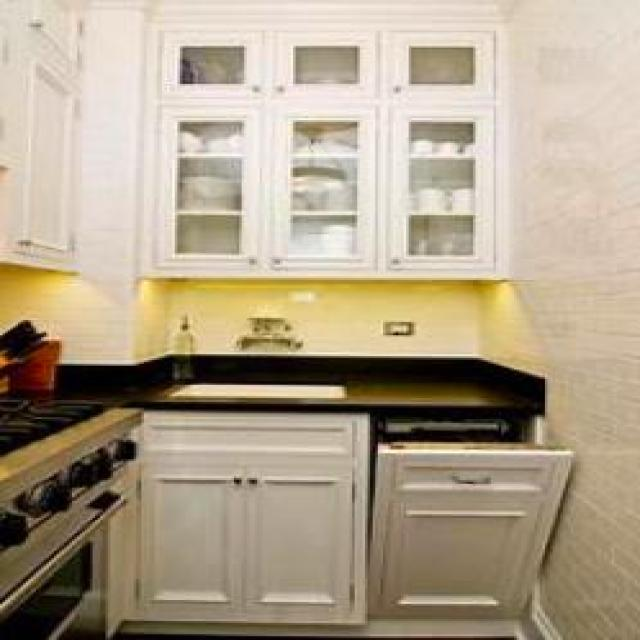dishwasher: (365, 411, 571, 621)
